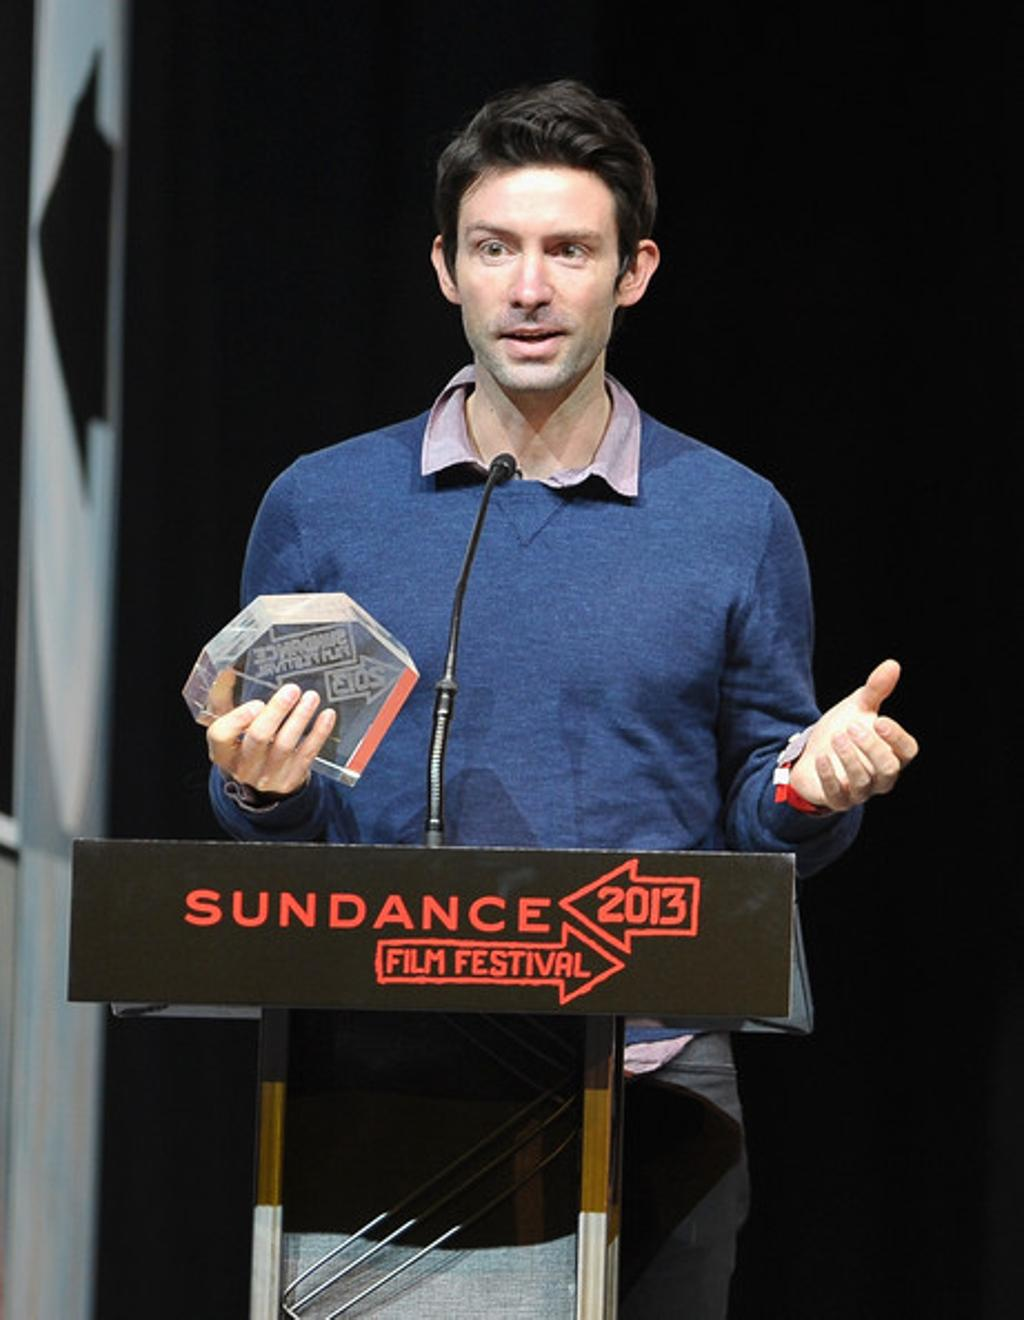face: (454, 152, 619, 394)
